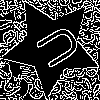U: (26, 21, 84, 76)
